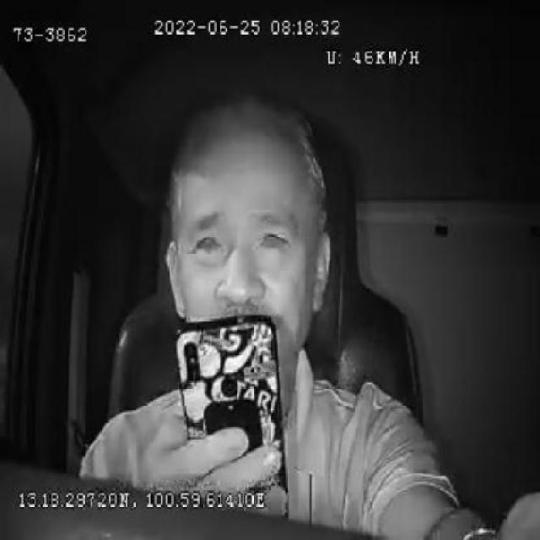phone: (171, 312, 286, 488)
